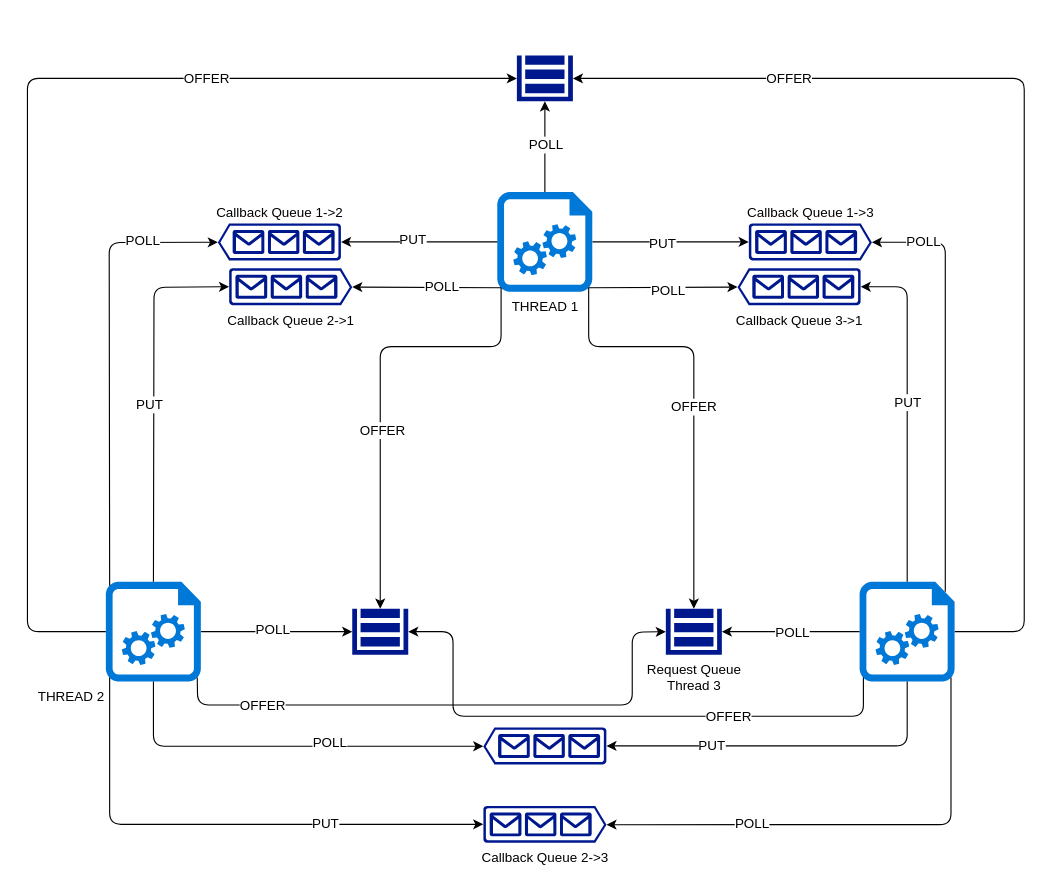
The diagram is 1053 pixels wide and 885 high, and some of its shapes have lost their labels. The box of each missing label's shape, as (x1, y1, x2, y2) in pixels:
Callback Queue 3->2: (483, 727, 606, 764)
Request Queue Thread 1: (516, 55, 572, 101)
Request Queue Thread 2: (352, 608, 408, 654)
THREAD 3: (859, 581, 954, 681)
